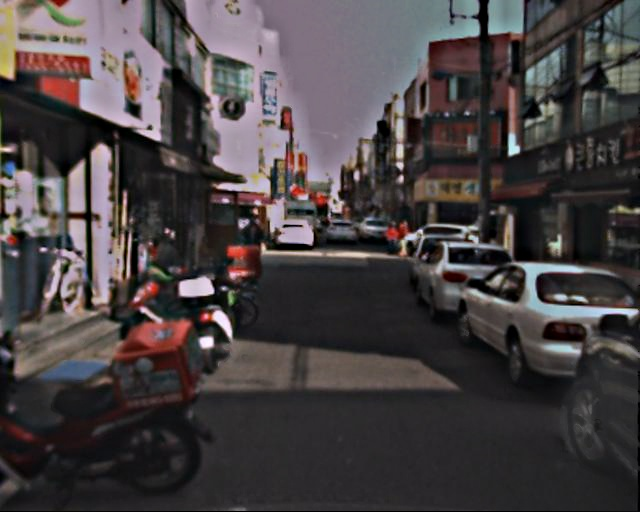person: (237, 213, 269, 292), (398, 220, 413, 257), (386, 218, 401, 254)
